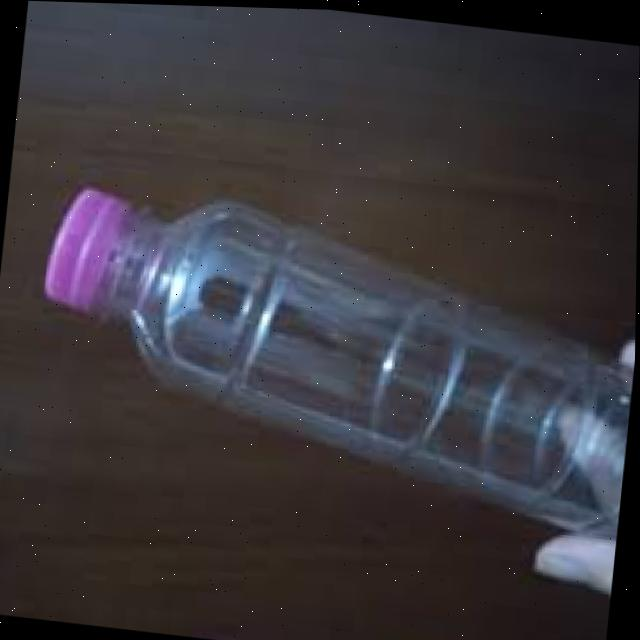Dry: (27, 182, 632, 525)
